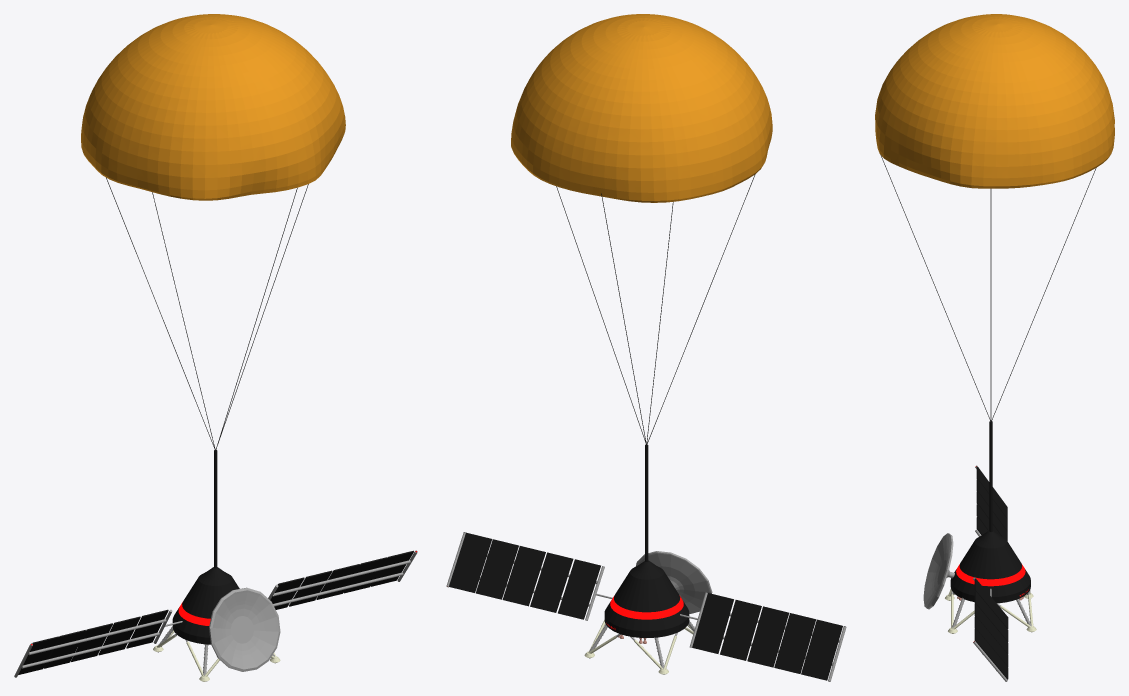
The model's file is europa_horizon_drifter_x1.glb.
3 renders of one model, left to right at view 1: azimuth 30°, elevation 25°; view 2: azimuth 150°, elevation 25°; view 3: azimuth 270°, elevation 25°, orthographic. The views are drawn at different scales.
Visible parts, largest first — view 1: Parachute, Radar_001, Cube_005, Cube_010, Europa_Horizon_Drifter_X1, Cylinder_028, Cylinder_033; view 2: Parachute, Cube_005, Cube_010, Europa_Horizon_Drifter_X1, Radar_001; view 3: Parachute, Europa_Horizon_Drifter_X1, Cube_010, Cube_005, Radar_001, Parachute_Line1, Parachute_Line2.
Part boxes in pixels (left/top/right/bottom): Parachute: left=81, top=14, right=345, bottom=200; Radar_001: left=209, top=587, right=280, bottom=671; Cube_005: left=18, top=609, right=168, bottom=674; Cube_010: left=270, top=550, right=413, bottom=609; Europa_Horizon_Drifter_X1: left=172, top=567, right=239, bottom=644; Cylinder_028: left=14, top=609, right=172, bottom=677; Cylinder_033: left=268, top=551, right=417, bottom=606; Parachute: left=511, top=14, right=772, bottom=202; Cube_005: left=692, top=593, right=842, bottom=680; Cube_010: left=449, top=532, right=600, bottom=619; Europa_Horizon_Drifter_X1: left=604, top=560, right=689, bottom=637; Radar_001: left=636, top=551, right=712, bottom=613; Parachute: left=875, top=14, right=1114, bottom=188; Europa_Horizon_Drifter_X1: left=950, top=531, right=1030, bottom=603; Cube_010: left=974, top=578, right=1008, bottom=679; Cube_005: left=976, top=466, right=1007, bottom=540; Radar_001: left=923, top=533, right=954, bottom=609; Parachute_Line1: left=990, top=189, right=991, bottom=421; Parachute_Line2: left=989, top=421, right=992, bottom=531.
Bounding box in the file's own units: 18.37 × 28.65 × 10.54.
